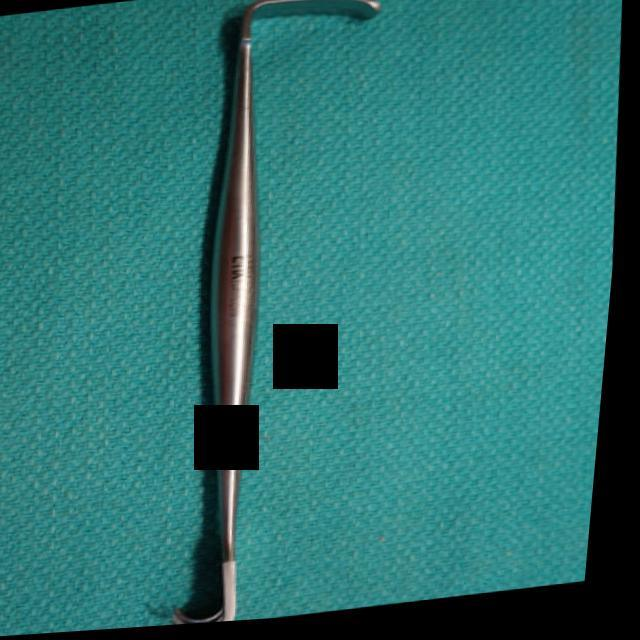Senn Retractor: (133, 0, 431, 631)
